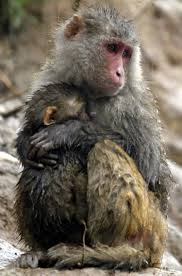monkey: (20, 1, 175, 233)
